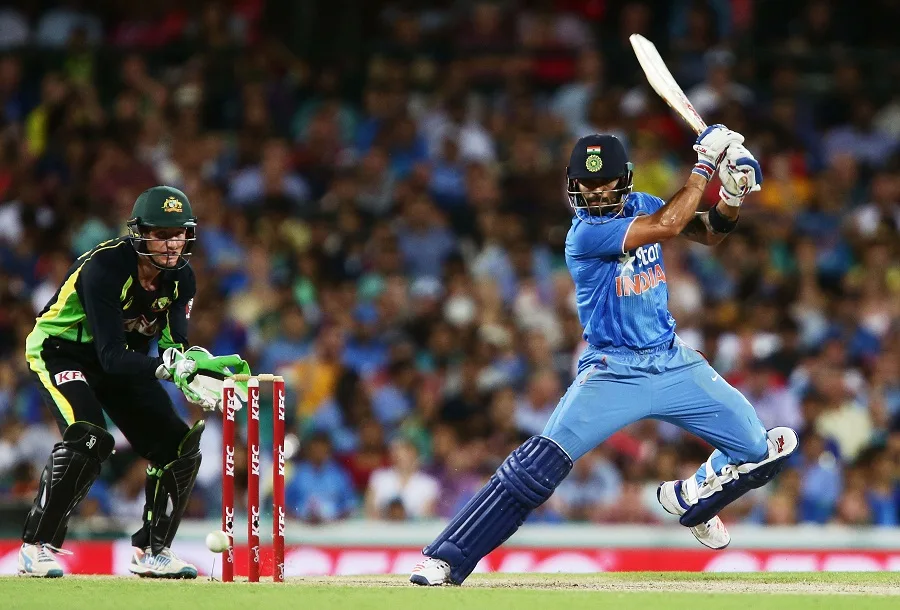Cutshot: (404, 5, 854, 604)
